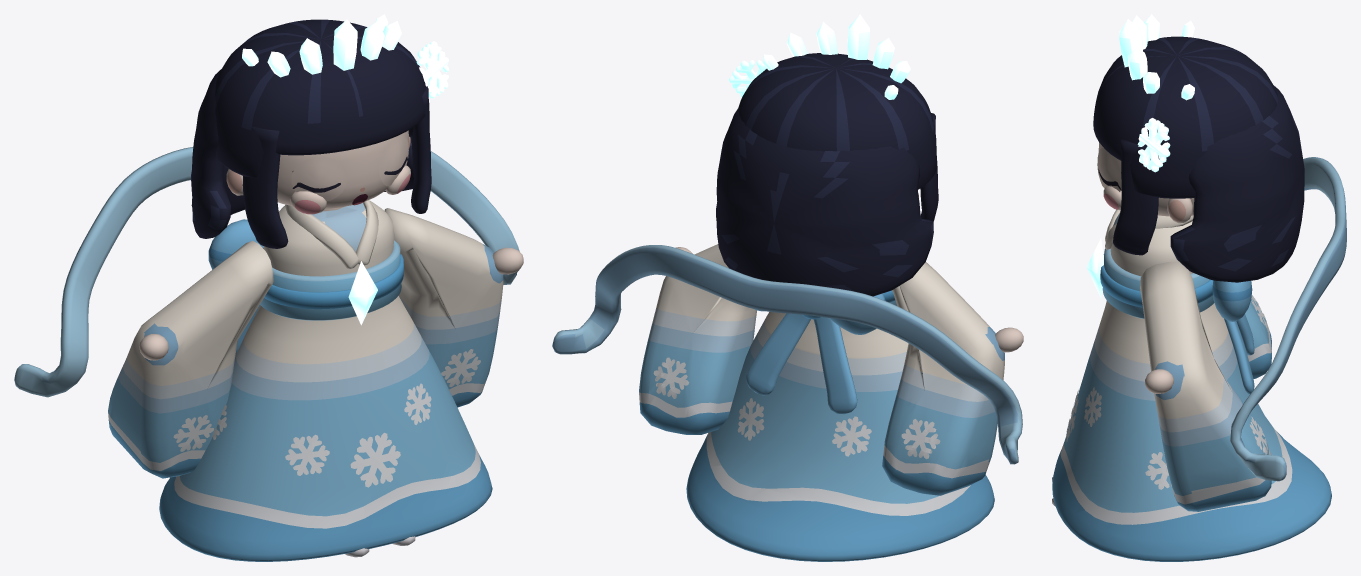
File: yuki-onna.glb
3 views of the same model, side by side, from view 1: azimuth 30°, elevation 25°; view 2: azimuth 150°, elevation 25°; view 3: azimuth 270°, elevation 25° (orthographic). The views are drawn at different scales.
Parts seen in each view (by area): view 1: body, head, slL, slR, shawl, hairB, lids, puff; view 2: body, hairB, head, slL, shawl, slR; view 3: body, head, slR, hairB, shawl, slL, lids.
Boxes of the visible parts, x1,y1,x2,y2 form: body: [159, 200, 492, 561]; head: [214, 14, 449, 248]; slL: [108, 241, 273, 478]; slR: [384, 208, 523, 407]; shawl: [14, 147, 519, 397]; hairB: [191, 69, 413, 238]; lids: [291, 136, 408, 200]; puff: [290, 165, 410, 214]; body: [686, 290, 994, 561]; hairB: [716, 108, 933, 296]; head: [728, 14, 938, 221]; slL: [882, 262, 1023, 495]; shawl: [552, 245, 1022, 464]; slR: [639, 244, 756, 434]; body: [1052, 209, 1331, 561]; head: [1093, 14, 1278, 255]; slR: [1140, 262, 1271, 511]; hairB: [1170, 86, 1304, 282]; shawl: [1230, 157, 1346, 481]; slL: [1245, 295, 1271, 378]; lids: [1097, 148, 1121, 191].
Bounding box in the file's own units: 1.35 × 1.31 × 0.7242.
